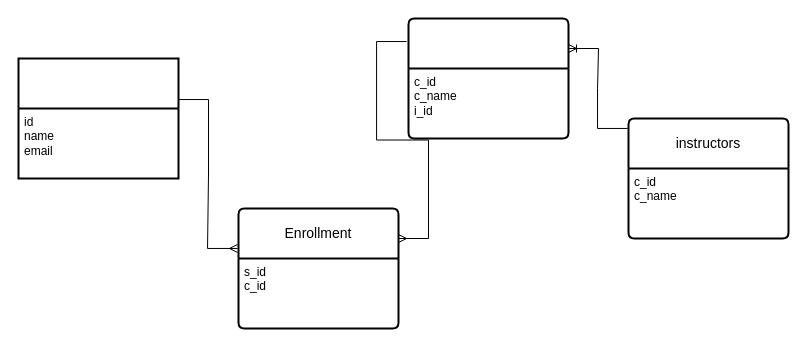
Some shapes in this 806 by 346 pixel diagram are drawn without their labels. Here are the shapes that lost their labels. From the top down, the box of each, then its label:
(407, 17, 569, 139): courses
(17, 57, 179, 179): Students
